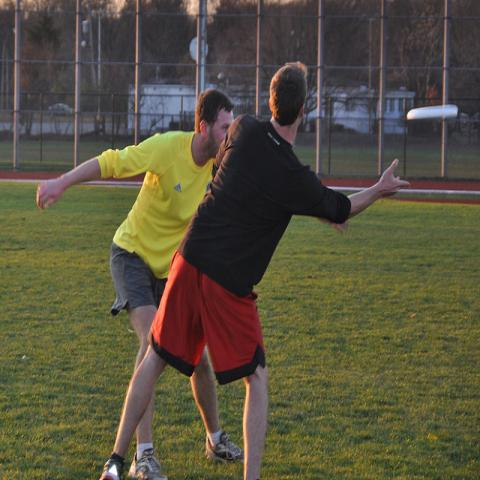car: (48, 102, 75, 116)
